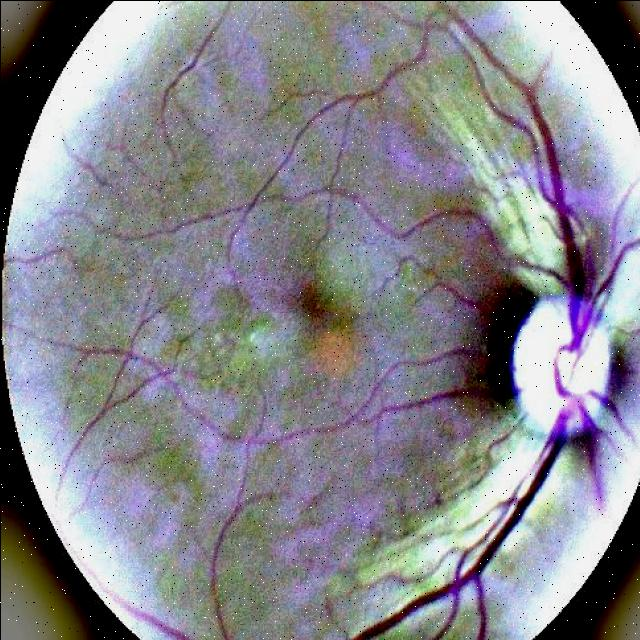Macula: (288, 279, 348, 330)
Nerves: (349, 348, 610, 640), (522, 87, 640, 365), (380, 340, 485, 381), (415, 282, 496, 319), (381, 382, 477, 411), (591, 393, 631, 438), (518, 262, 571, 294)
Optic Disk: (516, 293, 604, 430)
